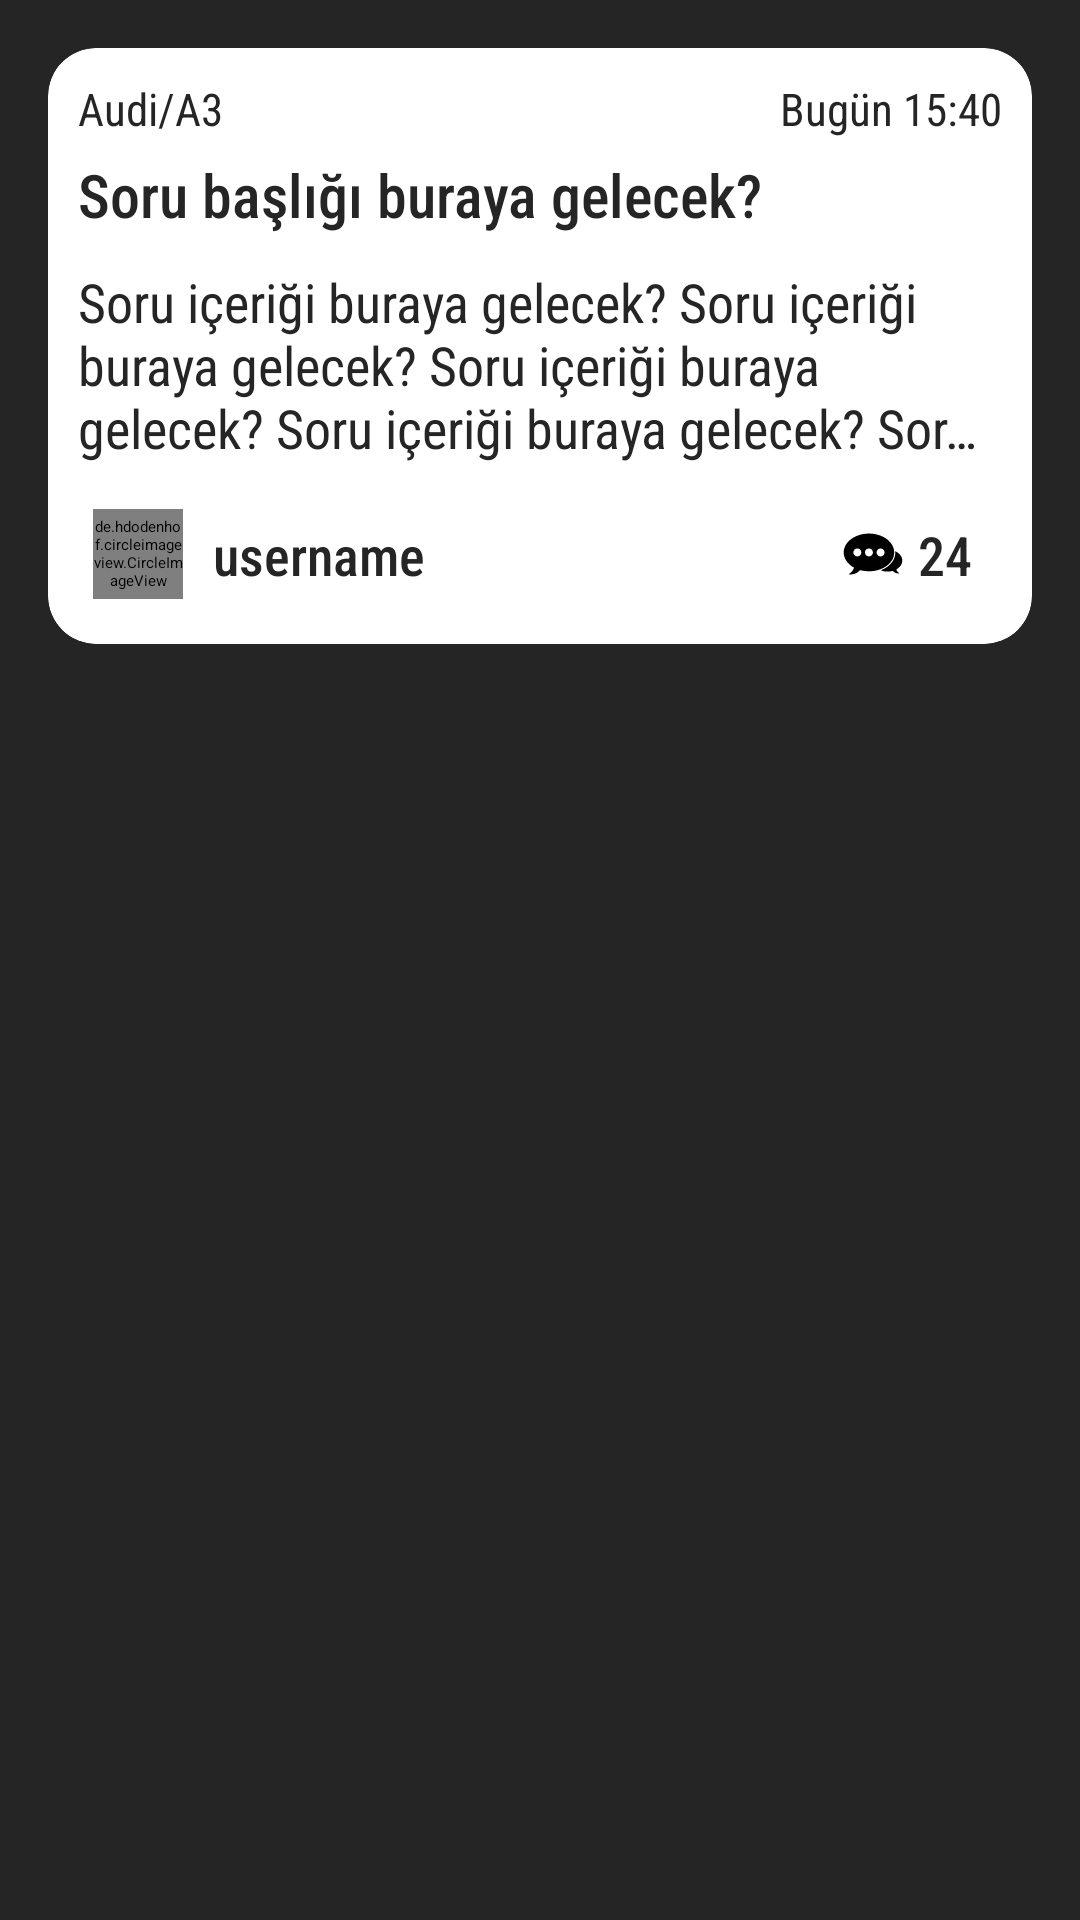

Point at icon controls on the screen. Image size 1080x1920, points as (x=x, y=y).
dialog: (x=873, y=554)
